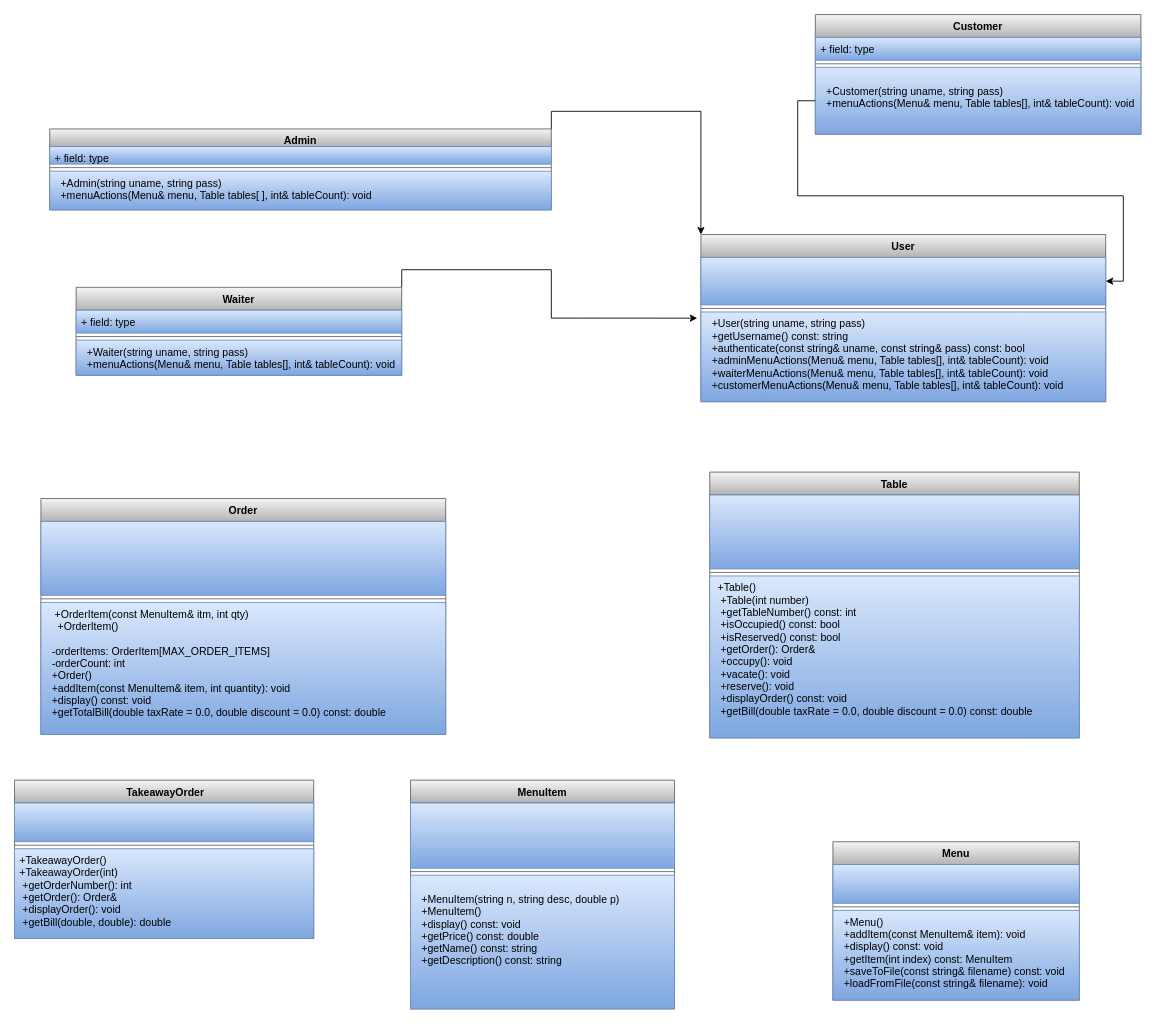
Image size: 1155x1023. Some labels were removed from this diagram. Each missing label, with the centre of its shape:
+item: MenuItem +quantity: int: point 243,558
- Name:string - description : string -price: double: point 542,835
-items: MenuItem[MAX_MENU_ITEMS] -itemCount: int: point 955,883
-orderNumber: int -order: Order: point 164,822
-tableNumber: int -occupied: bool -reserved: bool -order: Order: point 894,531
-username: string -password: string: point 903,281
